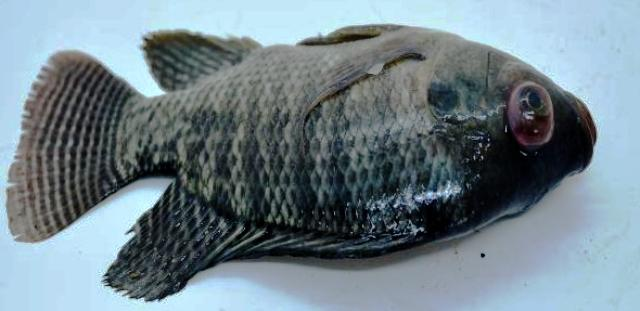Streptococcus: (7, 25, 596, 301)
